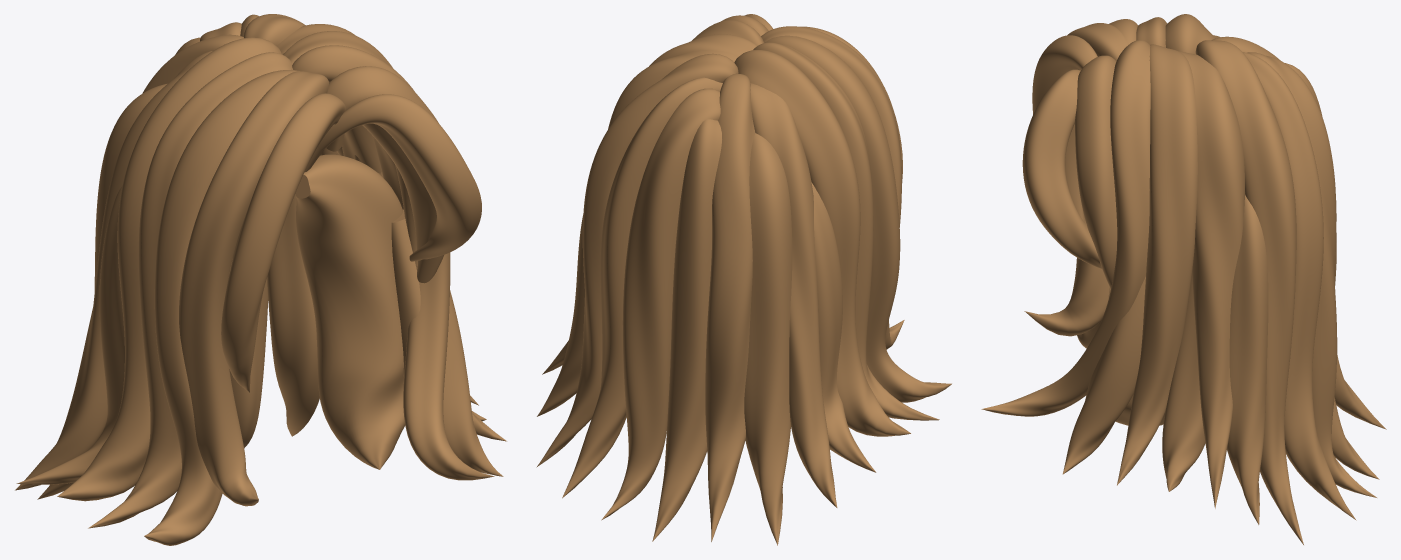
Rendered from hiar1.fbx.
3 renders of one model, left to right at view 1: azimuth 30°, elevation 25°; view 2: azimuth 150°, elevation 25°; view 3: azimuth 270°, elevation 25°, orthographic. The views are drawn at different scales.
Parts seen in each view (by area): view 1: Head1_HairStrand.000; view 2: Head1_HairStrand.000; view 3: Head1_HairStrand.000.
Part boxes in pixels (x1,y1,x2,y2): Head1_HairStrand.000: [15, 14, 506, 545]; Head1_HairStrand.000: [536, 14, 951, 545]; Head1_HairStrand.000: [981, 14, 1386, 544].
Bounding box in the file's own units: 87.64 × 99.13 × 81.05.
